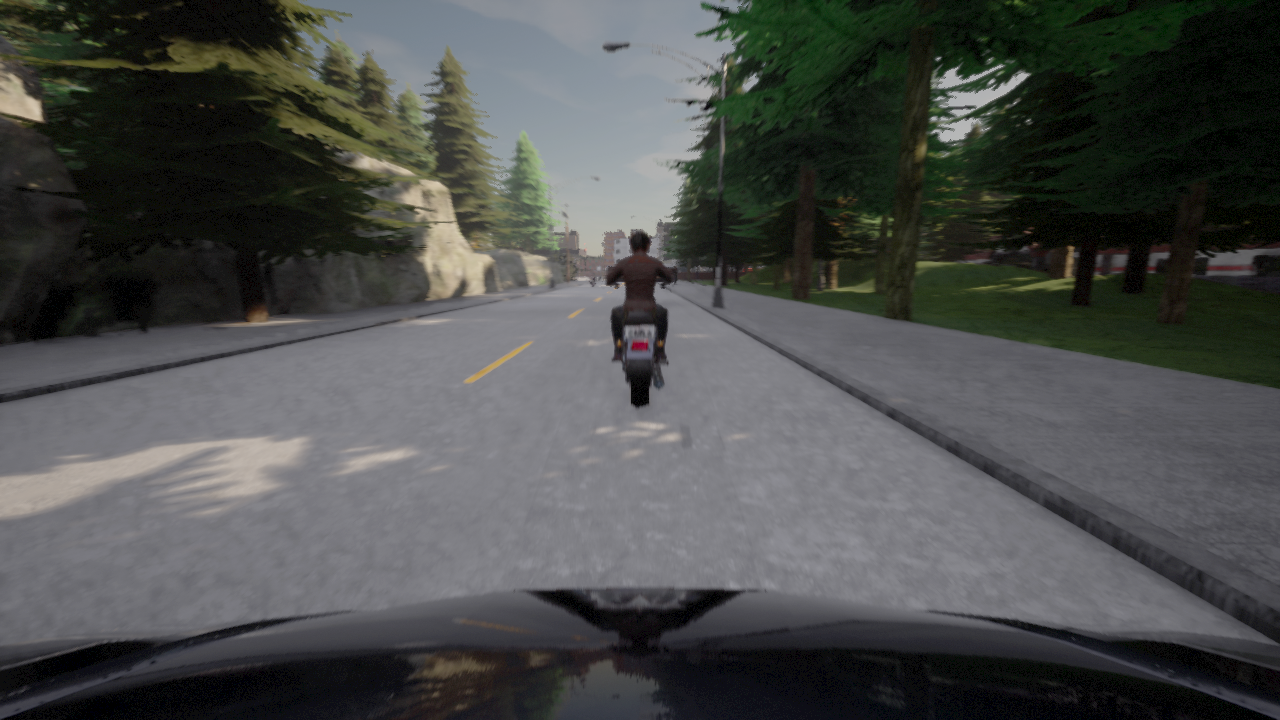cyclist: (0, 588, 1279, 719), (607, 268, 674, 408), (586, 273, 595, 287)
pedestrian: (673, 265, 678, 285)
